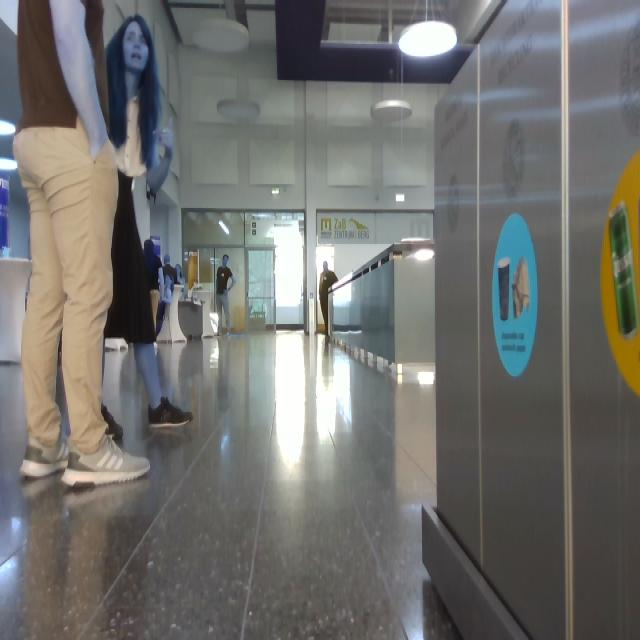door: (246, 213, 304, 329)
light bulb: (371, 66, 412, 122), (399, 21, 456, 58), (192, 18, 249, 53), (218, 100, 260, 121), (372, 100, 412, 122), (154, 129, 174, 149), (413, 249, 435, 261), (1, 120, 16, 136), (220, 220, 230, 236)
person: (14, 1, 150, 485), (101, 15, 194, 435), (320, 262, 338, 336)
staircase: (329, 244, 435, 385)
tiled floor: (1, 334, 457, 640)
trash bin: (423, 1, 640, 640)
